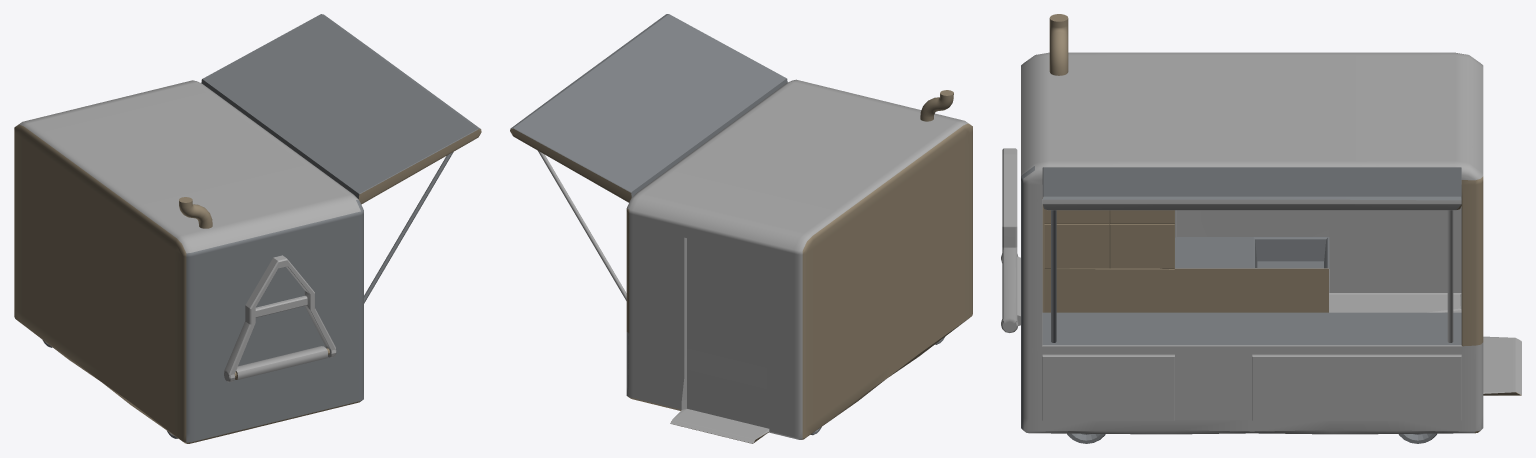
Rendered from SM_FoodTruck.fbx.
3 views of the same model, side by side, from view 1: azimuth 30°, elevation 25°; view 2: azimuth 150°, elevation 25°; view 3: azimuth 270°, elevation 25° (orthographic). The views are drawn at different scales.
Parts seen in each view (by area): view 1: FoodTruck; view 2: FoodTruck; view 3: FoodTruck.
Part boxes in pixels (x1,y1,x2,y2): FoodTruck: [14, 14, 481, 443]; FoodTruck: [510, 14, 972, 443]; FoodTruck: [1001, 14, 1521, 443].
Bounding box in the file's own units: 505 × 398 × 563.
